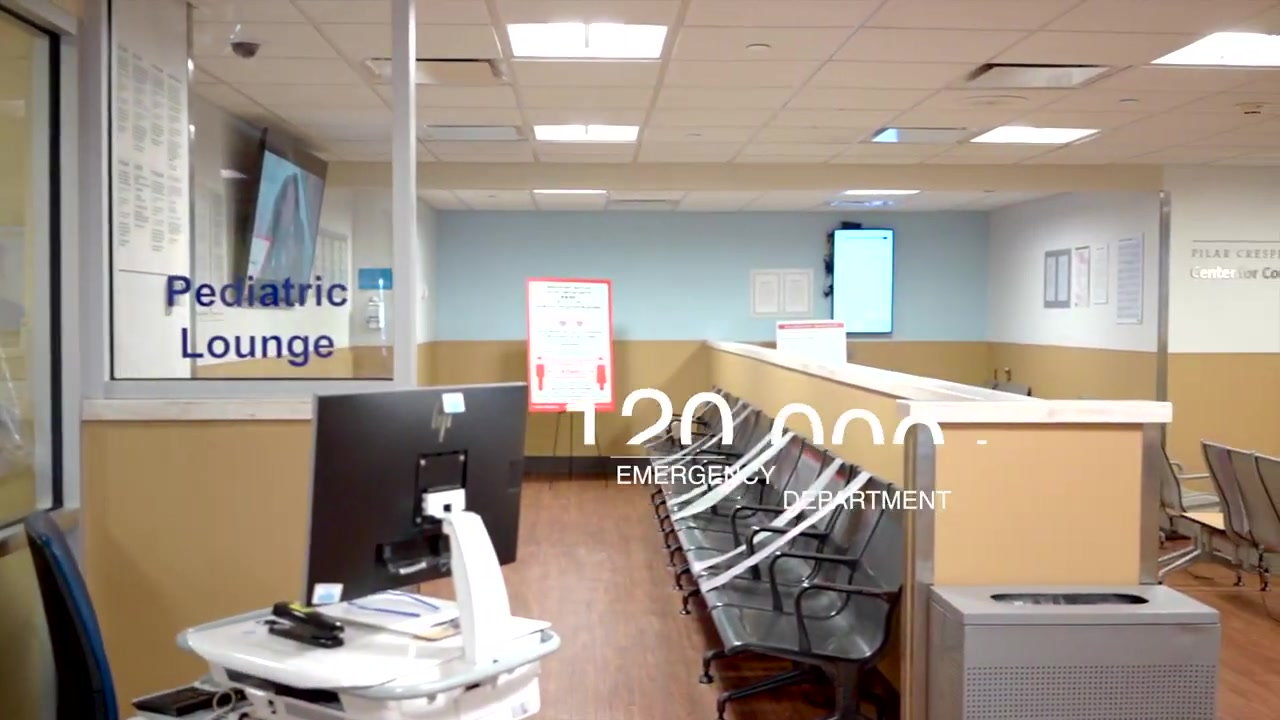TV: (237, 126, 329, 309), (833, 229, 893, 334)
chair: (708, 488, 910, 720), (688, 469, 890, 683), (676, 452, 854, 615), (22, 511, 121, 720), (1157, 432, 1280, 596)
computer: (304, 382, 529, 608)
countertop: (704, 331, 1180, 422)
dispenser: (366, 297, 385, 330)
keyboard: (131, 687, 245, 720)
waste_bin: (930, 584, 1220, 720)
